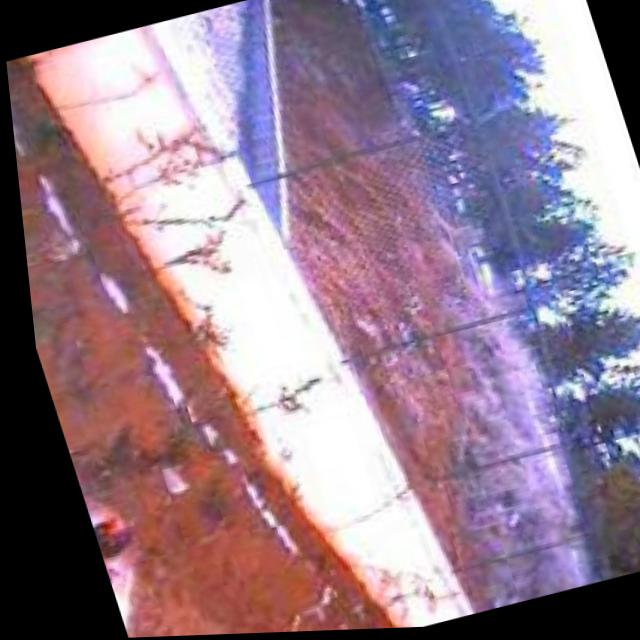Fire: (76, 503, 145, 589)
